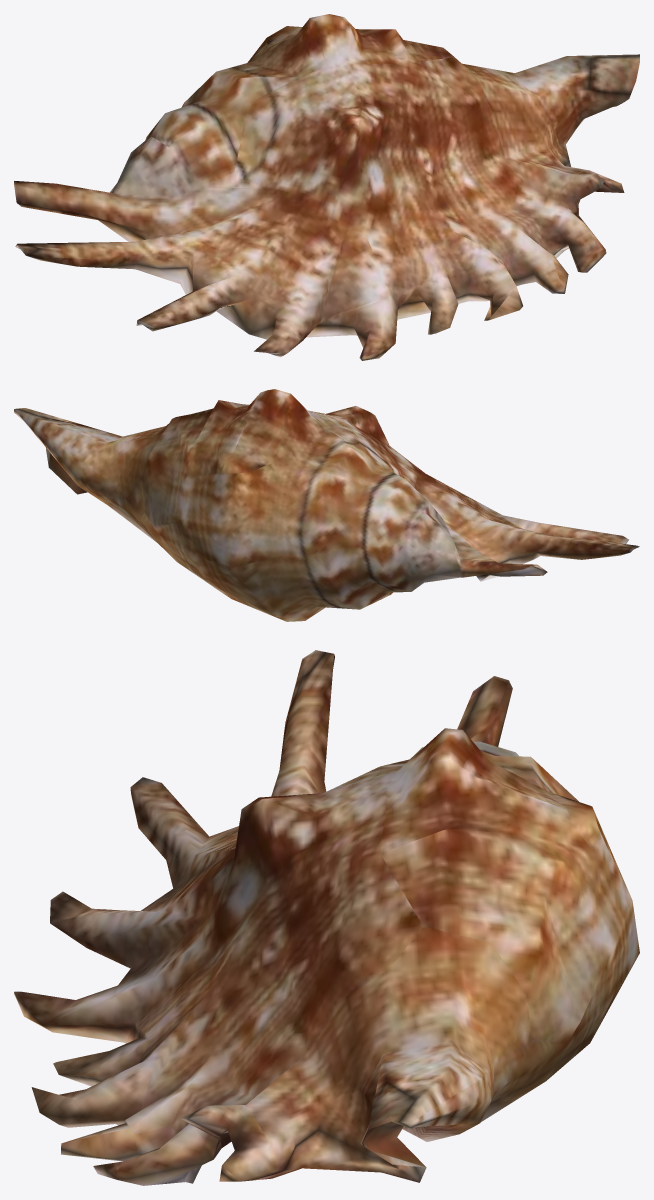
File: lambis_shell.glb
3 renders of one model, top to bottom at view 1: azimuth 30°, elevation 25°; view 2: azimuth 150°, elevation 25°; view 3: azimuth 270°, elevation 25°, orthographic. The views are drawn at different scales.
Visible parts, largest first — view 1: lambis_shell; view 2: lambis_shell; view 3: lambis_shell.
Part boxes in pixels (<box>): lambis_shell: <box>14,14,639,360</box>; lambis_shell: <box>14,389,639,621</box>; lambis_shell: <box>14,650,639,1185</box>.
Bounding box in the file's own units: 0.1387 × 0.0461 × 0.0744.
1 material, 1 textured.
